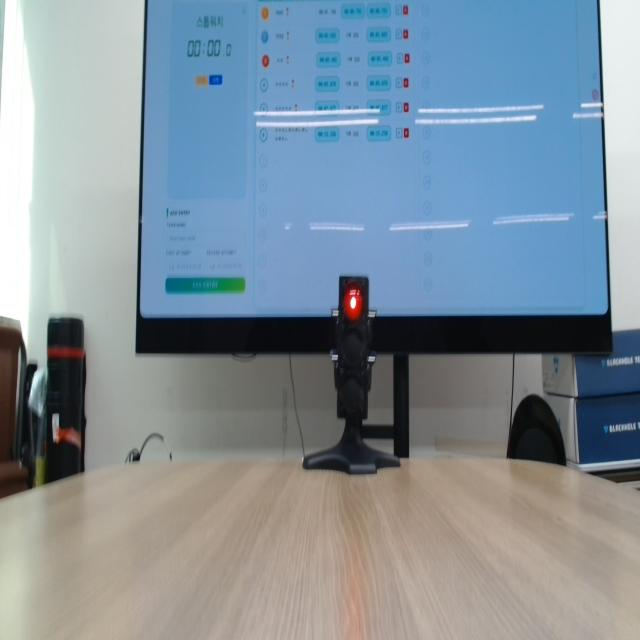red_light: (343, 285, 363, 321)
